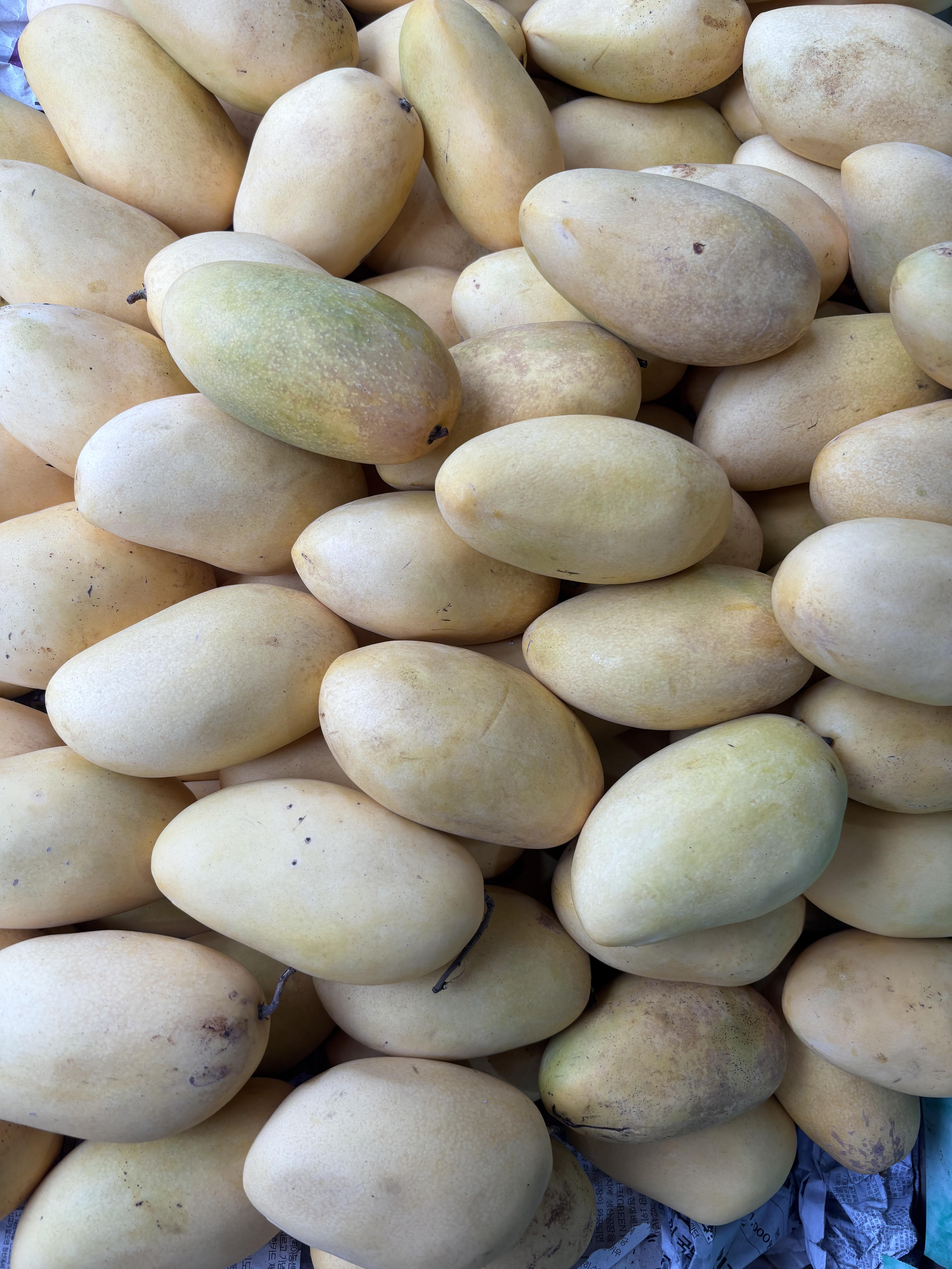mango: (152, 779, 483, 985), (243, 1057, 552, 1269), (571, 715, 847, 946), (163, 261, 461, 463), (519, 169, 819, 367), (320, 640, 603, 849), (435, 414, 732, 585)
occluded: (46, 586, 356, 777), (0, 930, 270, 1143), (74, 393, 366, 575), (11, 1078, 288, 1269), (19, 4, 247, 236), (313, 886, 591, 1061), (523, 564, 813, 731), (694, 313, 949, 492), (377, 321, 642, 490), (539, 974, 786, 1144), (399, 0, 564, 251), (292, 492, 559, 646), (0, 502, 215, 688), (233, 68, 423, 277), (0, 747, 194, 929), (552, 847, 806, 986), (0, 303, 196, 478), (743, 4, 952, 168), (772, 517, 952, 706), (0, 160, 177, 333), (569, 1097, 797, 1225), (782, 930, 952, 1097), (643, 164, 848, 301), (123, 0, 358, 115), (523, 0, 750, 103), (775, 1022, 920, 1174), (792, 677, 952, 814), (804, 800, 952, 938), (143, 231, 330, 339), (841, 142, 952, 311), (810, 401, 952, 525), (484, 1139, 596, 1269), (550, 96, 741, 171), (364, 161, 486, 274), (451, 247, 589, 338), (732, 134, 845, 226), (890, 242, 952, 388), (359, 266, 463, 348), (254, 972, 335, 1077), (219, 729, 358, 788), (0, 93, 81, 182), (0, 426, 73, 522), (746, 483, 824, 571), (186, 932, 285, 997), (0, 1120, 62, 1220), (76, 896, 210, 938), (698, 491, 763, 571), (358, 4, 410, 96), (466, 0, 527, 68), (0, 699, 62, 759), (630, 346, 687, 402), (720, 76, 766, 142), (469, 635, 529, 672), (217, 98, 262, 147), (27, 0, 131, 20), (236, 572, 313, 597), (310, 1248, 360, 1269), (495, 0, 535, 24), (184, 780, 219, 800), (702, 14, 727, 29)
